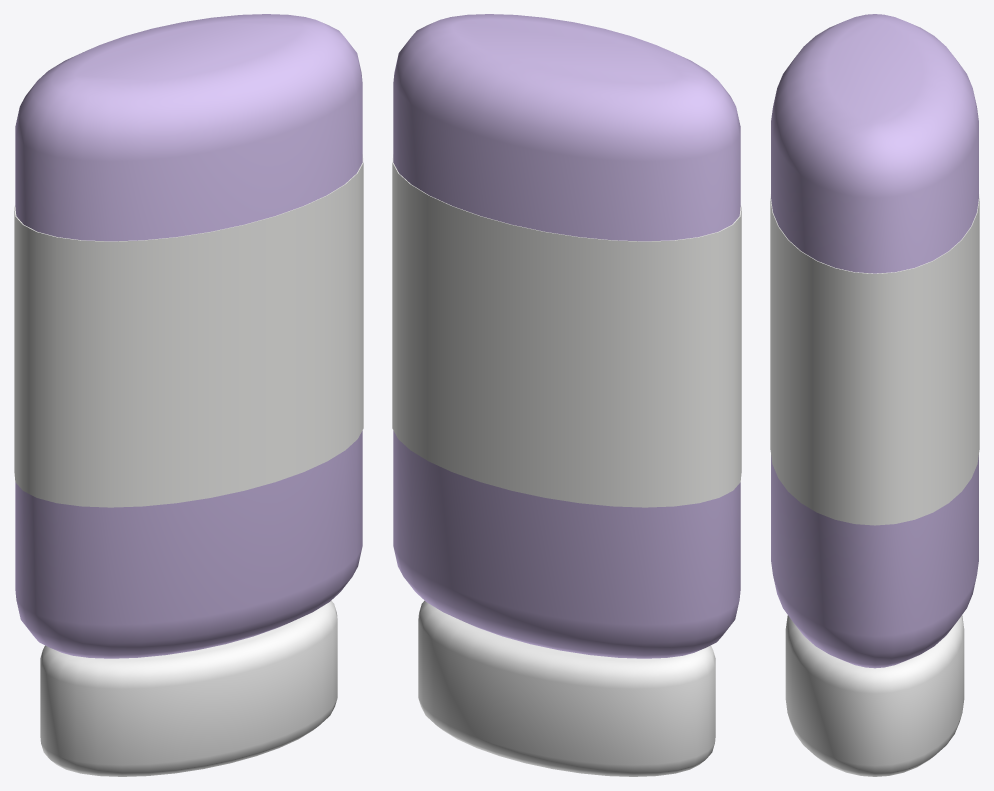
Rendered from ConditionerBottle.glb.
The picture shows the model from 3 angles, left to right: view 1: azimuth 30°, elevation 25°; view 2: azimuth 150°, elevation 25°; view 3: azimuth 270°, elevation 25°; orthographic projection. The views are drawn at different scales.
Parts seen in each view (by area): view 1: ConditionerBottle; view 2: ConditionerBottle; view 3: ConditionerBottle.
Boxes of the visible parts, x1=… form: ConditionerBottle: x1=14, y1=14, x2=363, y2=776; ConditionerBottle: x1=392, y1=14, x2=741, y2=776; ConditionerBottle: x1=770, y1=14, x2=979, y2=776.
Bounding box in the file's own units: 0.0915 × 0.18 × 0.0528.
